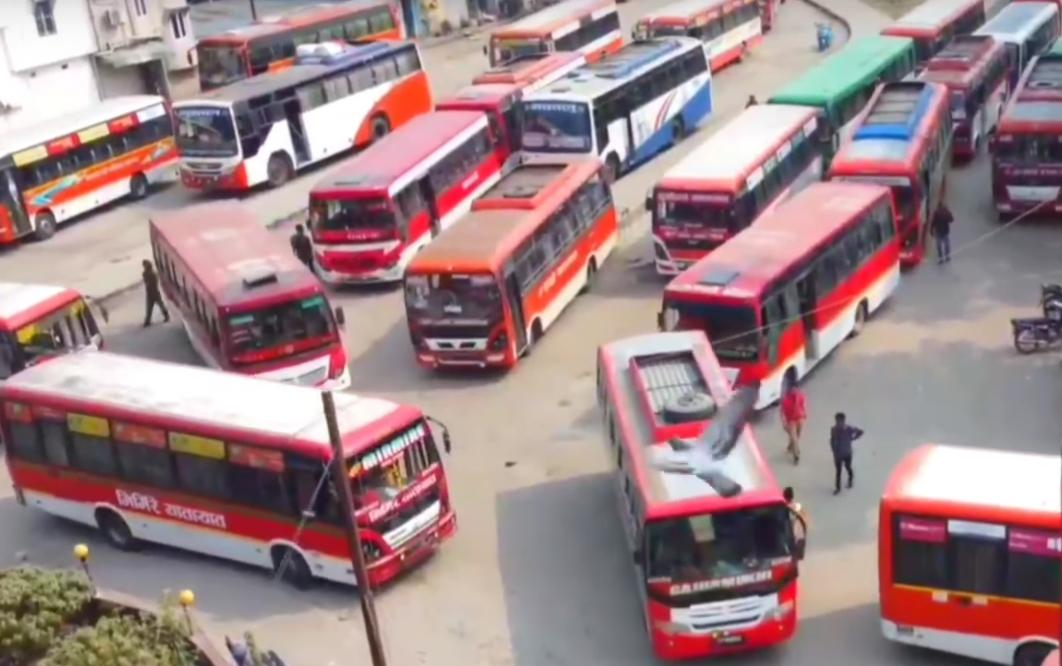bus: (2, 335, 462, 605), (588, 325, 798, 660), (402, 148, 620, 380), (141, 196, 362, 405), (167, 31, 441, 199), (873, 426, 1062, 666), (993, 50, 1062, 232)
